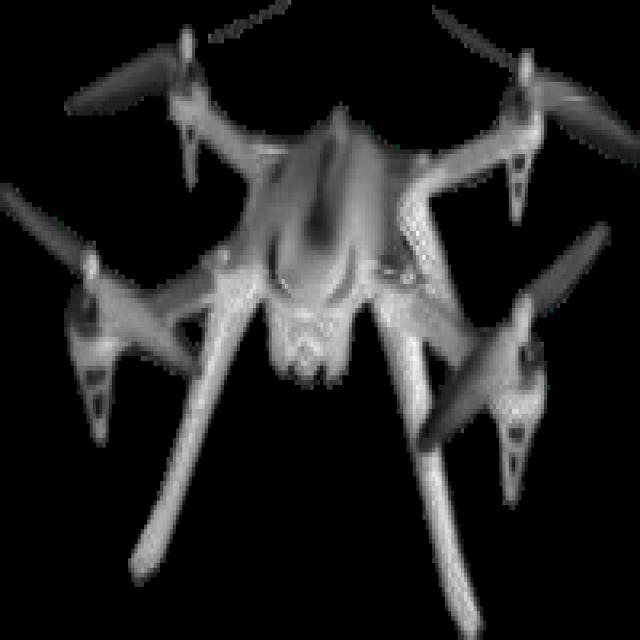drone: (21, 20, 624, 640)
